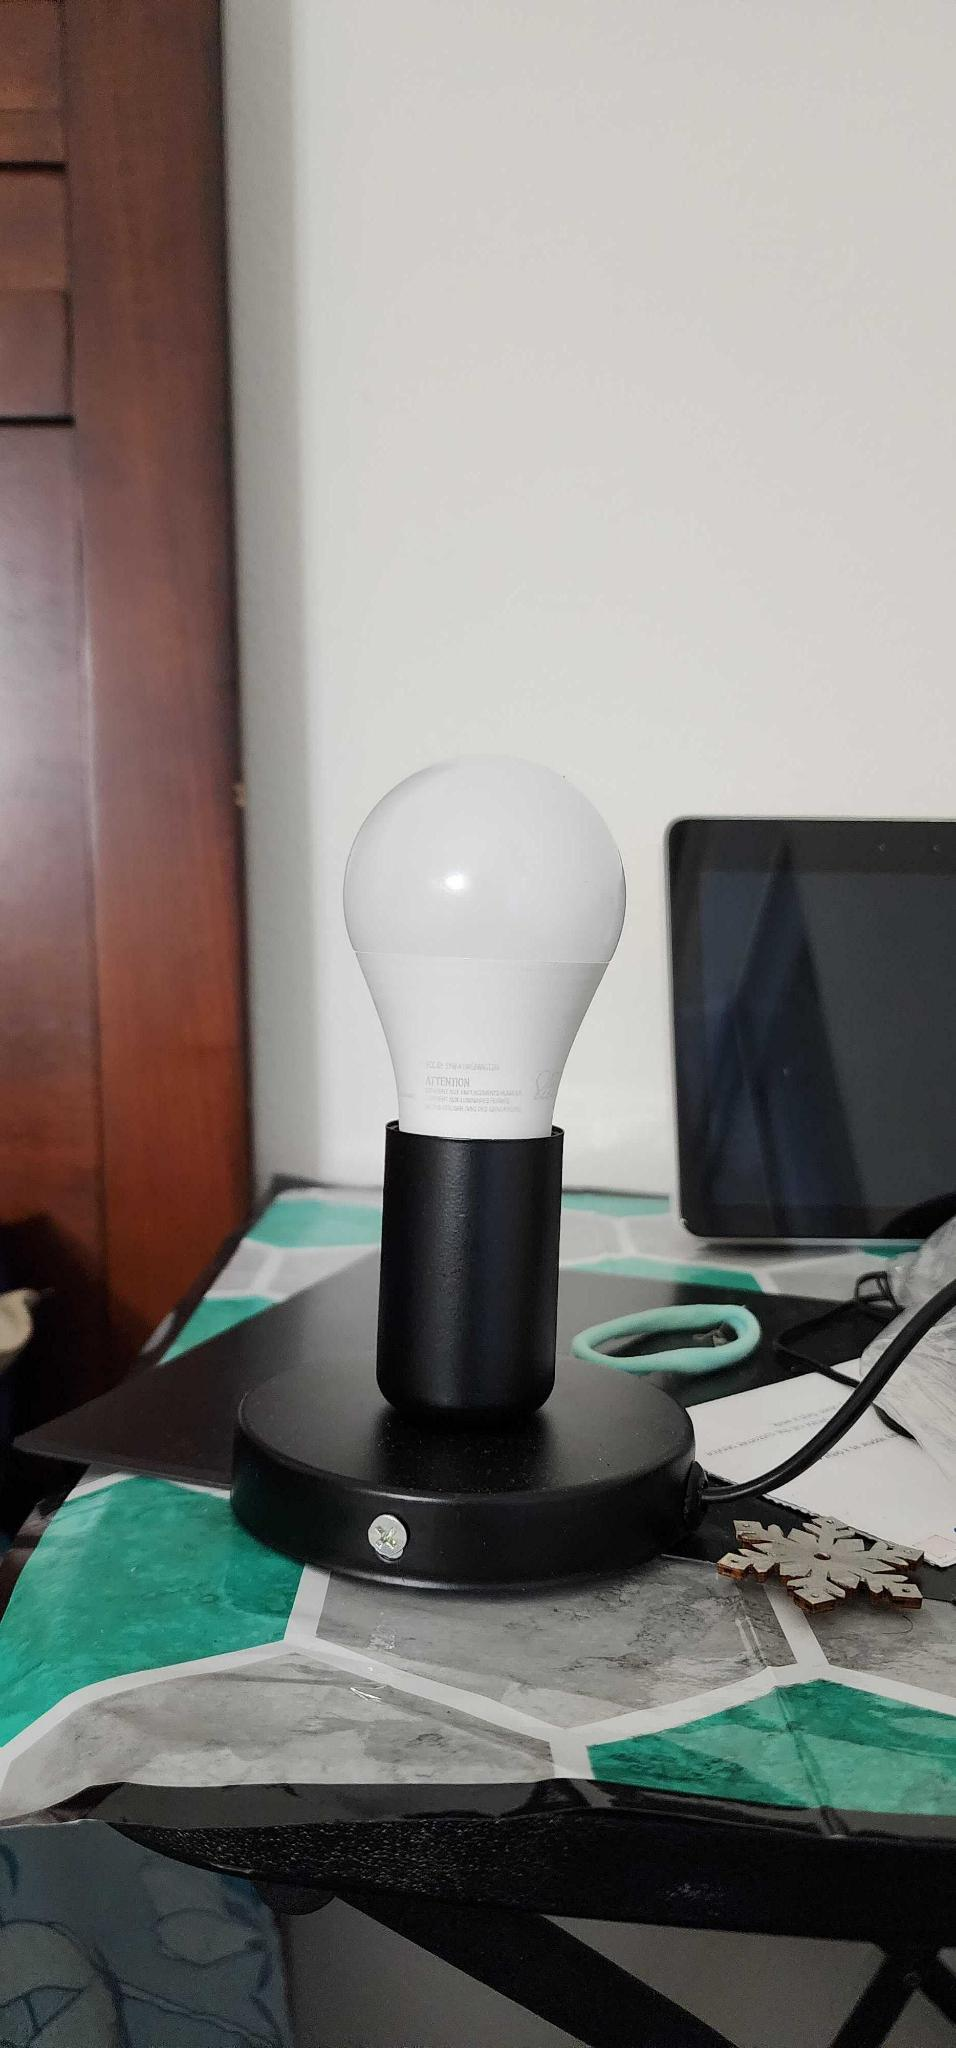Fan: (341, 756, 627, 1408)
